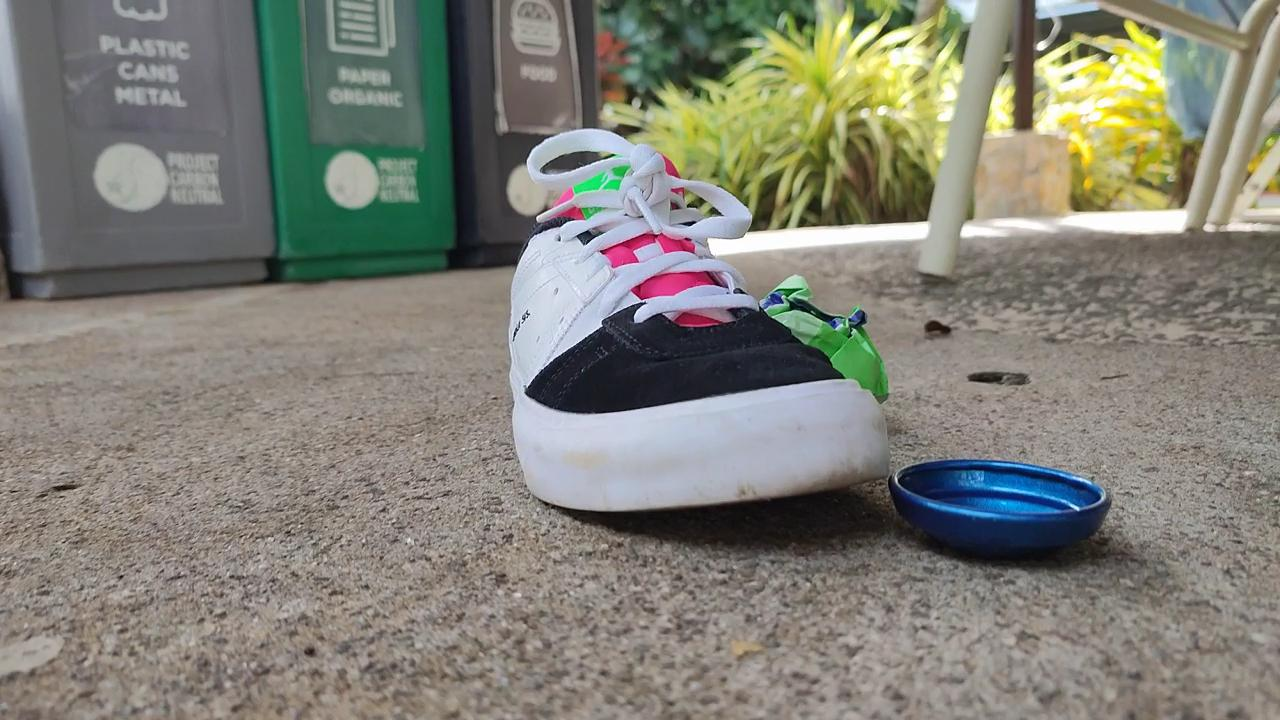Paper: (753, 252, 898, 414)
